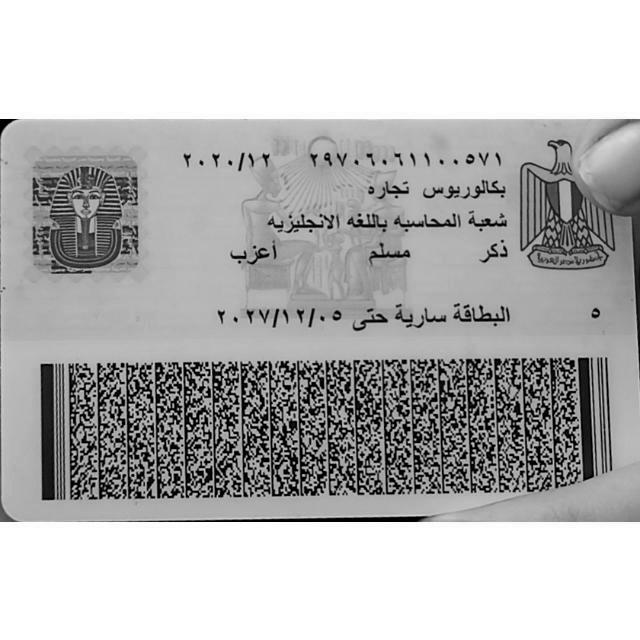id_card: (0, 104, 639, 520)
